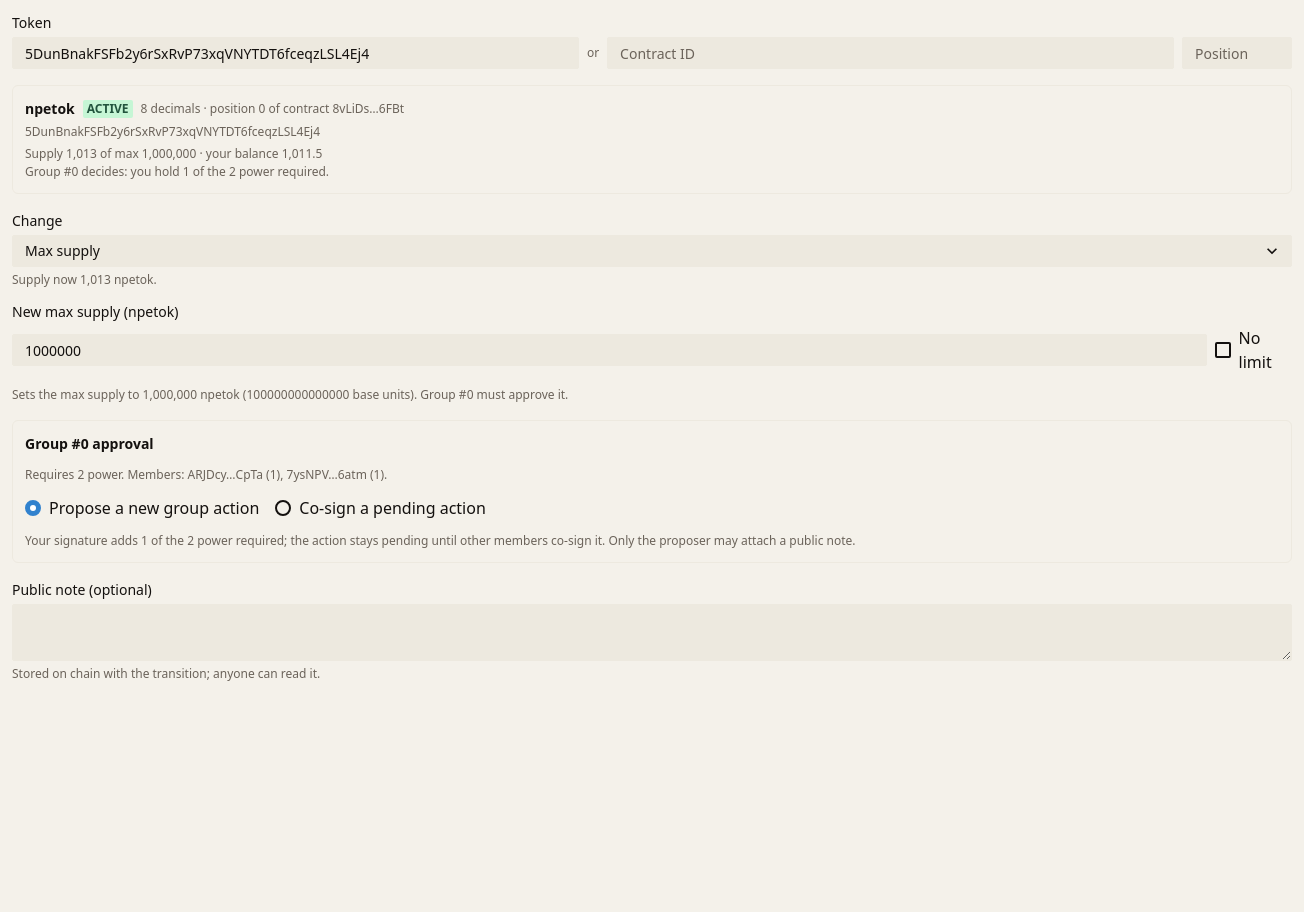
Test: TokenOperationForm › hands a rule to no one only as an explicit, governed change
Select "Who may act: Freezing" in the dropdown named "Configuration item" at (652, 251), box [12, 235, 1292, 267]
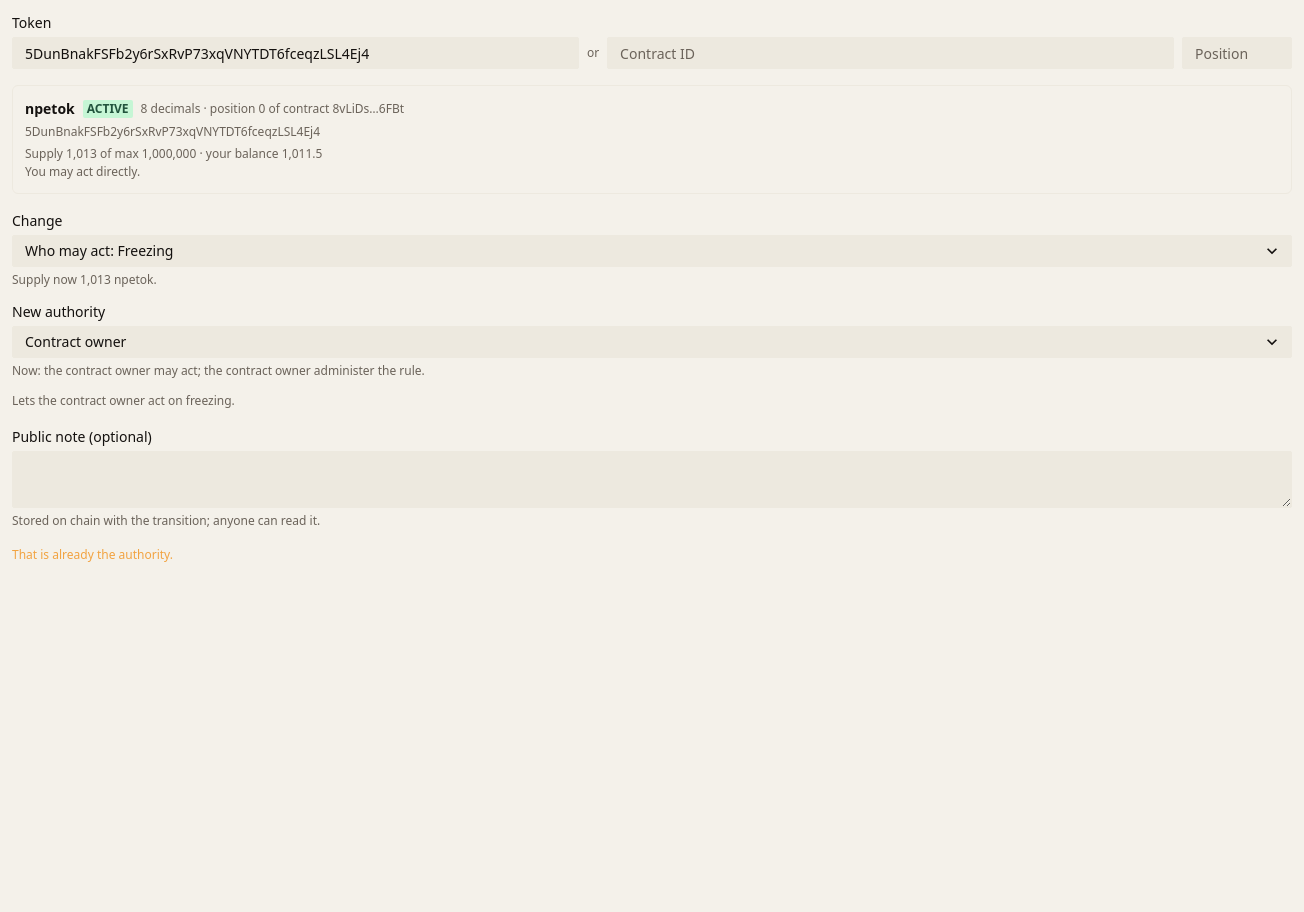
Select "No one (gives up control)" in the dropdown named "New authority type" at (652, 342), box [12, 326, 1292, 358]
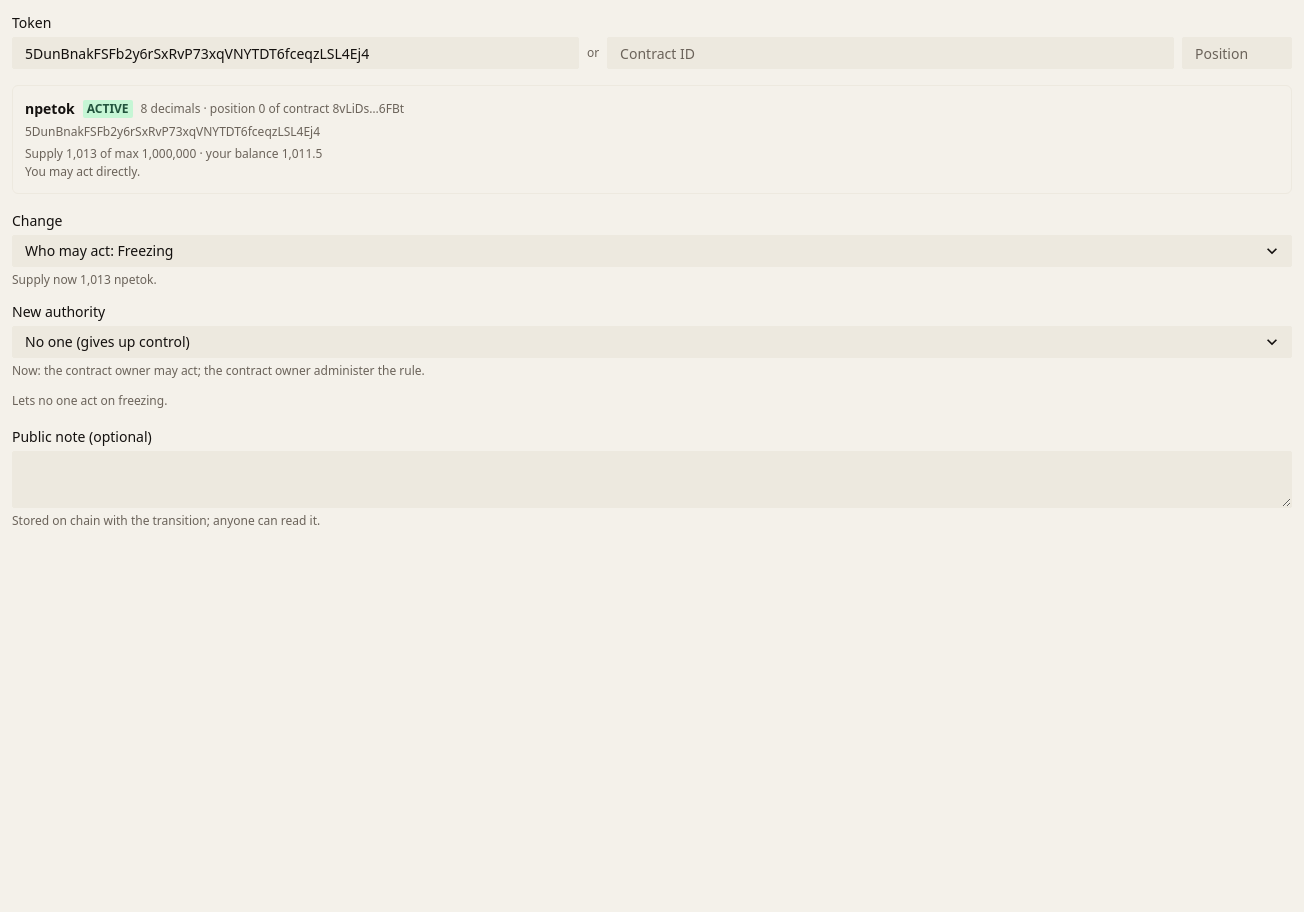
Now the text "Lets no one act on freezing." is shown, box [12, 392, 167, 409]
Select "Max supply" in the dropdown named "Configuration item" at (652, 251), box [12, 235, 1292, 267]
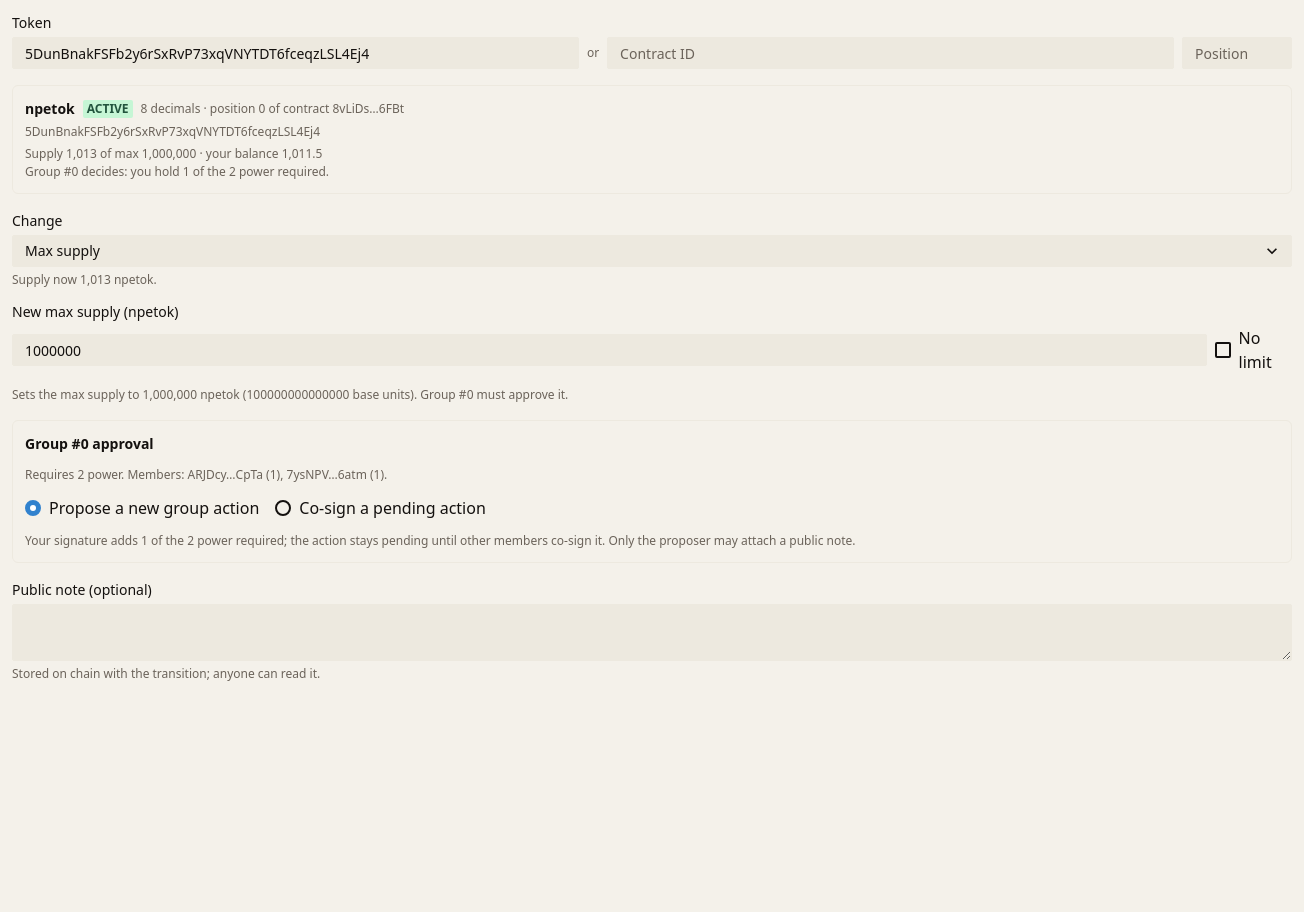
Replace the text in the field named "New max supply" with "0.5" at (609, 350), box [12, 334, 1206, 366]
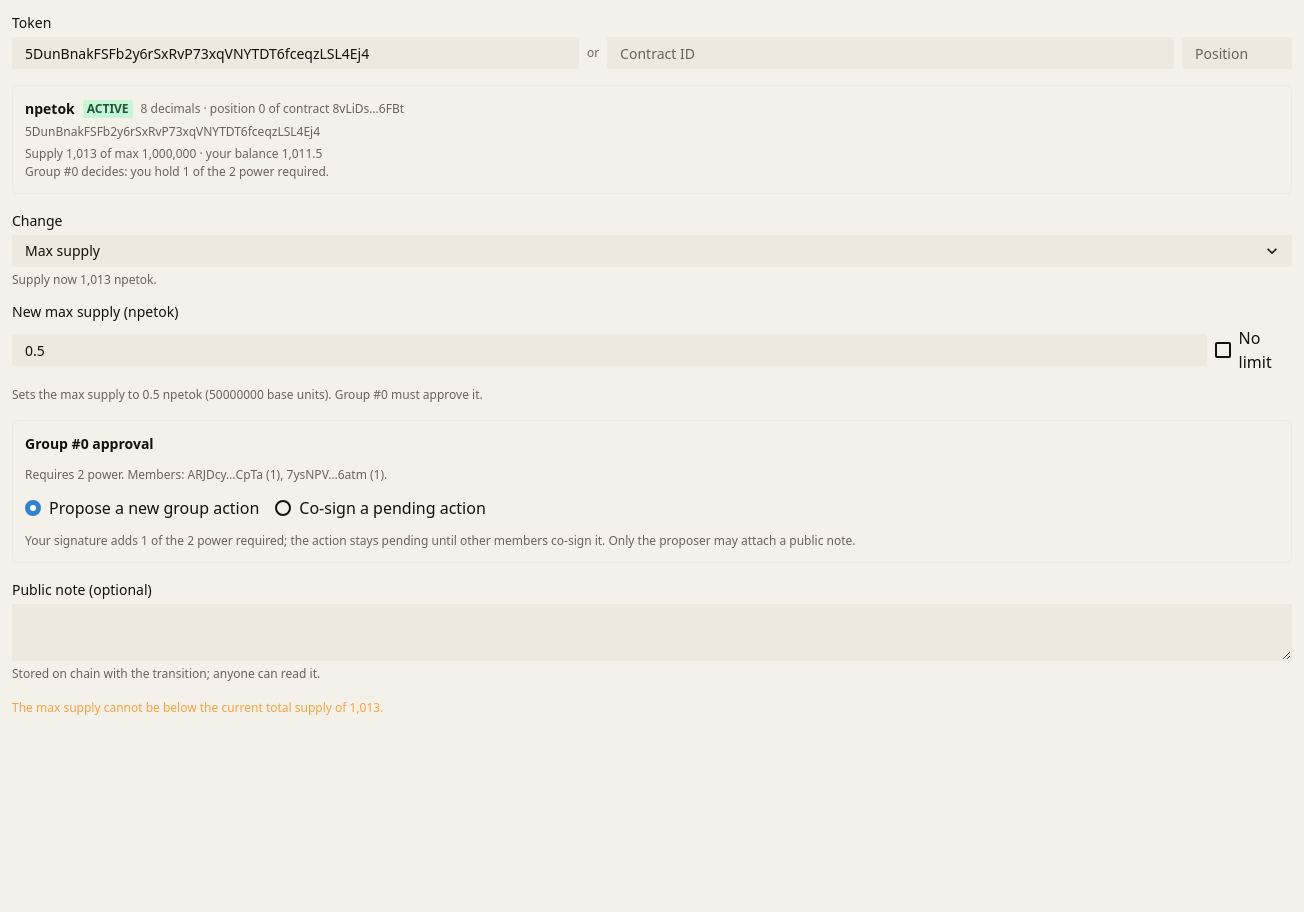
Now the text "below the current total supply" is shown, box [12, 698, 383, 716]
